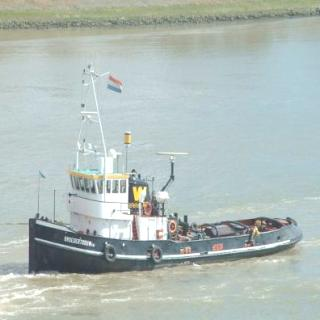Tug Boat: (31, 90, 299, 272)
